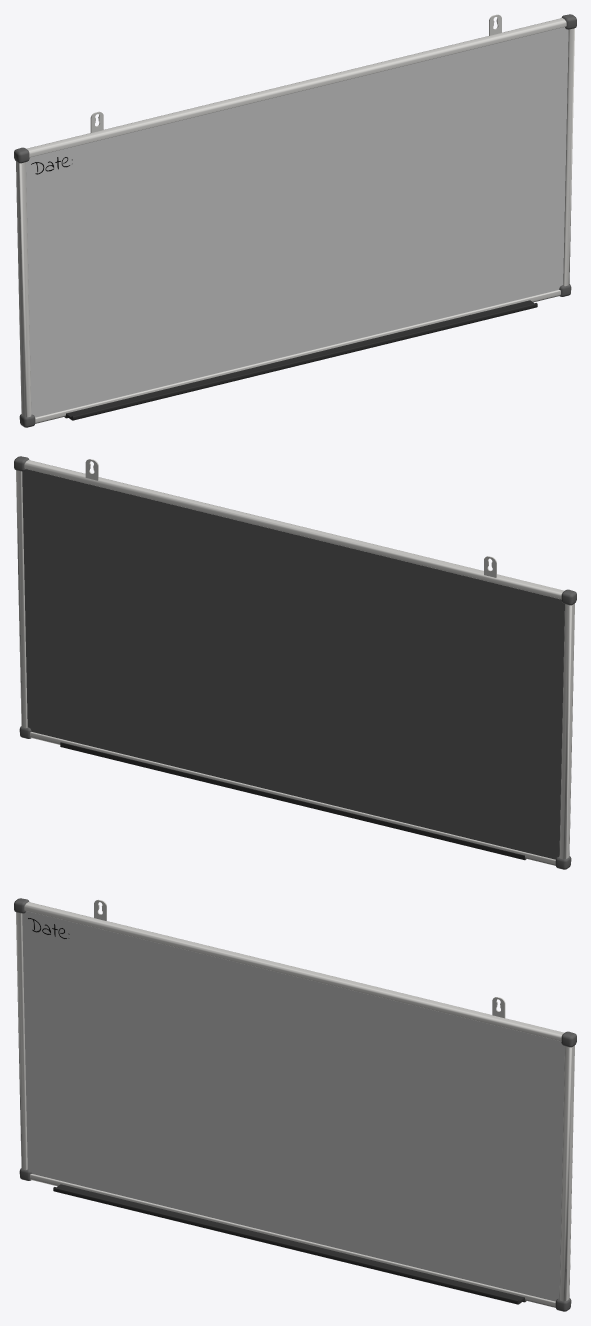
Rendered from White_board.fbx.
3 views of the same model, one above another, from view 1: azimuth 30°, elevation 25°; view 2: azimuth 150°, elevation 25°; view 3: azimuth 330°, elevation 25° (orthographic).
Visible parts, largest first — view 1: White_board; view 2: White_board; view 3: White_board.
Part boxes in pixels (left/top/right/bottom): White_board: left=14, top=14, right=576, bottom=427; White_board: left=14, top=456, right=576, bottom=869; White_board: left=14, top=898, right=576, bottom=1311.
Size of the model in its own units: 136 by 68.27 by 5.5.
